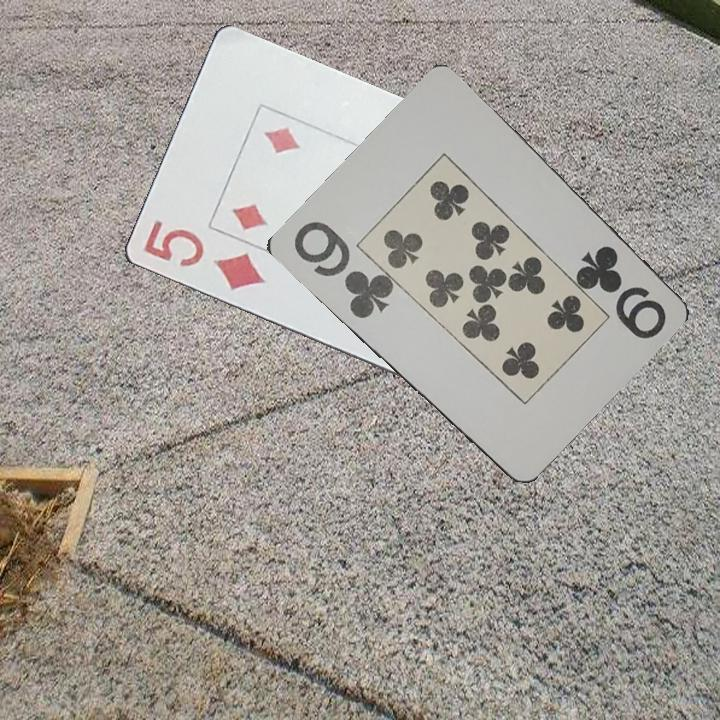5d: (139, 217, 267, 294)
9c: (289, 217, 396, 322), (573, 242, 669, 344)
